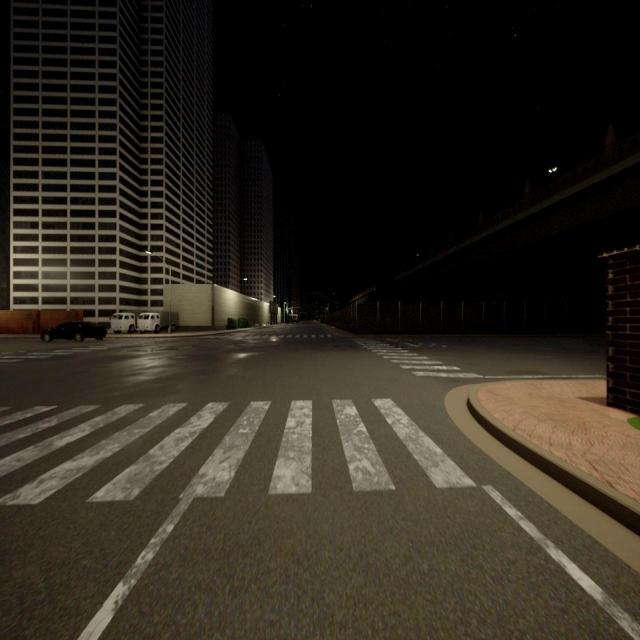Vehicle: (40, 321, 107, 342), (136, 311, 180, 334), (110, 312, 136, 334)
